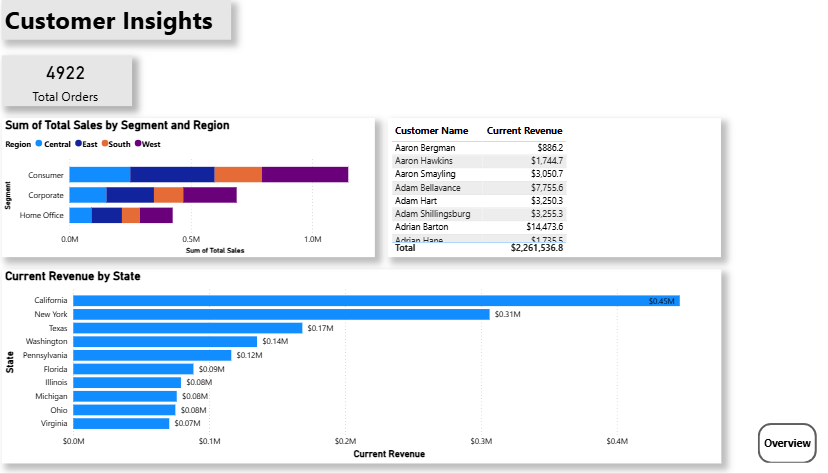

Layout of this report page (visuals, bound fields, positions):
{"tool":"powerbi","page":{"name":"Customer Insights","canvas":[1280,720],"ordinal":2},"visuals":[{"type":"card","fields":{"Values":["Orders.Total Orders"]},"box":[22.5,84.3,196.6,78.7],"z":0},{"type":"clusteredBarChart","fields":{"Category":["Orders.State"],"Y":["Orders.Total Revenue"]},"box":[22.5,410.1,1095.6,295.9],"z":1000},{"type":"barChart","fields":{"Category":["Orders.Segment"],"Y":["Sum(Orders.Total Sales)"],"Series":["Orders.Region"]},"box":[22.5,179.8,567.5,211.6],"z":2000},{"type":"tableEx","fields":{"Values":["Orders.Customer Name","Orders.Total Revenue"]},"box":[610.5,179.8,507.5,211.6],"z":3000},{"type":"actionButton","box":[1174.2,644.2,89.9,61.8],"z":4000},{"type":"textbox","box":[22,0,350,62],"z":5000}]}

Visuals, with their boxes in screenshot pixels (x1, y1, x2, y2), scaled from the page's 1280x720 canvas onto the 828x474 screenshot:
card - Orders.Total Orders: <bbox>15, 55, 142, 107</bbox>
clusteredBarChart - Orders.State x Orders.Total Revenue: <bbox>15, 270, 723, 465</bbox>
barChart - Orders.Segment x Sum(Orders.Total Sales): <bbox>15, 118, 382, 258</bbox>
tableEx - Orders.Customer Name x Orders.Total Revenue: <bbox>395, 118, 723, 258</bbox>
actionButton: <bbox>760, 424, 818, 465</bbox>
textbox: <bbox>14, 0, 241, 41</bbox>
